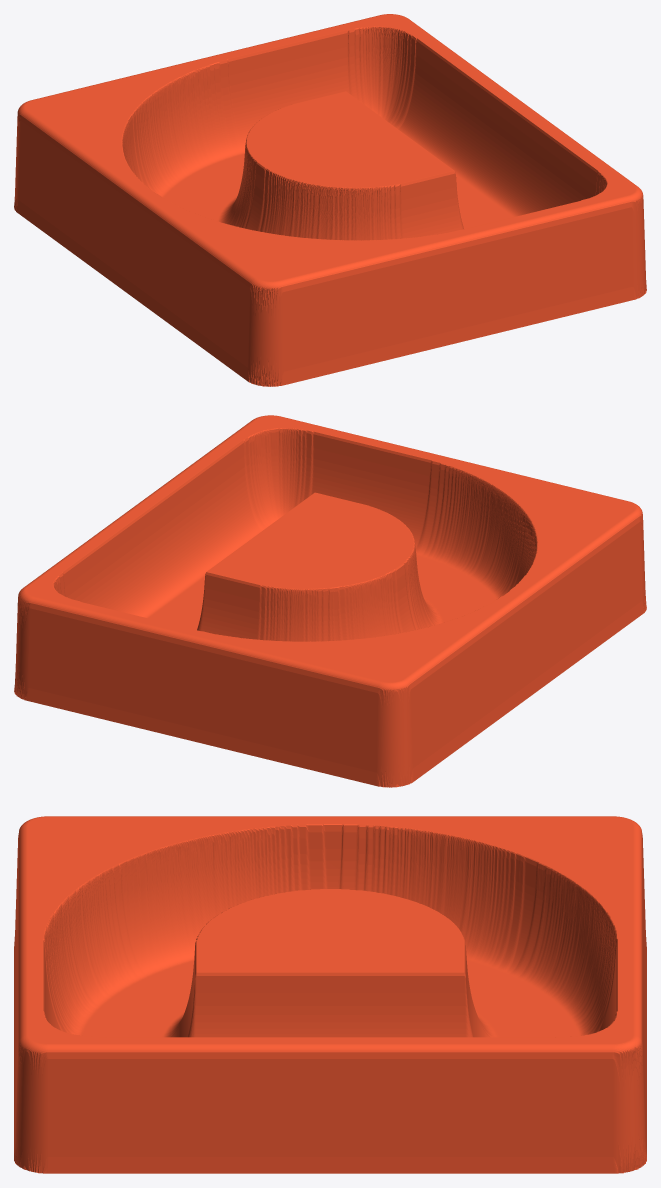
Rendered from mold.glb.
3 views of the same model, one above another, from view 1: azimuth 30°, elevation 25°; view 2: azimuth 150°, elevation 25°; view 3: azimuth 270°, elevation 25° (orthographic). The views are drawn at different scales.
Parts seen in each view (by area): view 1: geometry_0; view 2: geometry_0; view 3: geometry_0.
Boxes of the visible parts, x1,y1,x2,y2 form: geometry_0: (14, 14, 646, 386); geometry_0: (14, 415, 646, 787); geometry_0: (14, 816, 646, 1173).
Size of the model in its own units: 0.1505 by 0.0365 by 0.1689.
